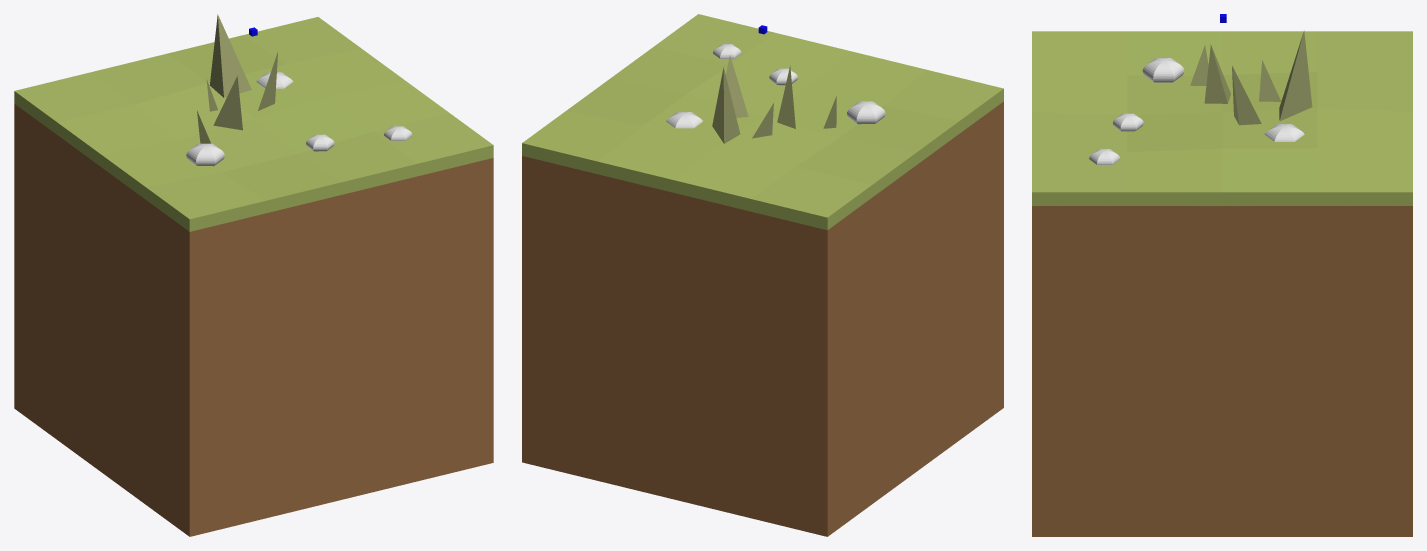
File: grass-tile.gltf
3 views of the same model, side by side, from view 1: azimuth 30°, elevation 25°; view 2: azimuth 150°, elevation 25°; view 3: azimuth 270°, elevation 25° (orthographic). The views are drawn at different scales.
Parts seen in each view (by area): view 1: Block, Grass, TallGrassL01, TallGrassL02, RockM01; view 2: Block, Grass, TallGrassL01, RockM01, TallGrassM01, TallGrassL02; view 3: Block, Grass, TallGrassL01, TallGrassL02, TallGrassM01, RockM01, RockM02, TallGrassS01, RockS02.
Part boxes in pixels (x1,y1,x2,y2): Block: (14,104,493,536); Grass: (14,17,493,231); TallGrassL01: (209,14,251,97); TallGrassL02: (213,76,242,130); RockM01: (186,143,224,166); Block: (522,101,1003,536); Grass: (522,14,1003,230); TallGrassL01: (712,67,740,143); RockM01: (847,101,885,124); TallGrassM01: (726,55,748,117); TallGrassL02: (777,66,795,128); Block: (1032,206,1412,536); Grass: (1032,31,1412,205); TallGrassL01: (1279,30,1312,120); TallGrassL02: (1204,44,1230,103); TallGrassM01: (1232,66,1261,125); RockM01: (1142,58,1184,82); RockM02: (1264,124,1304,141); TallGrassS01: (1259,60,1281,101); RockS02: (1113,113,1143,131).
Bounding box in the file's own units: 2 × 2.56 × 2.
